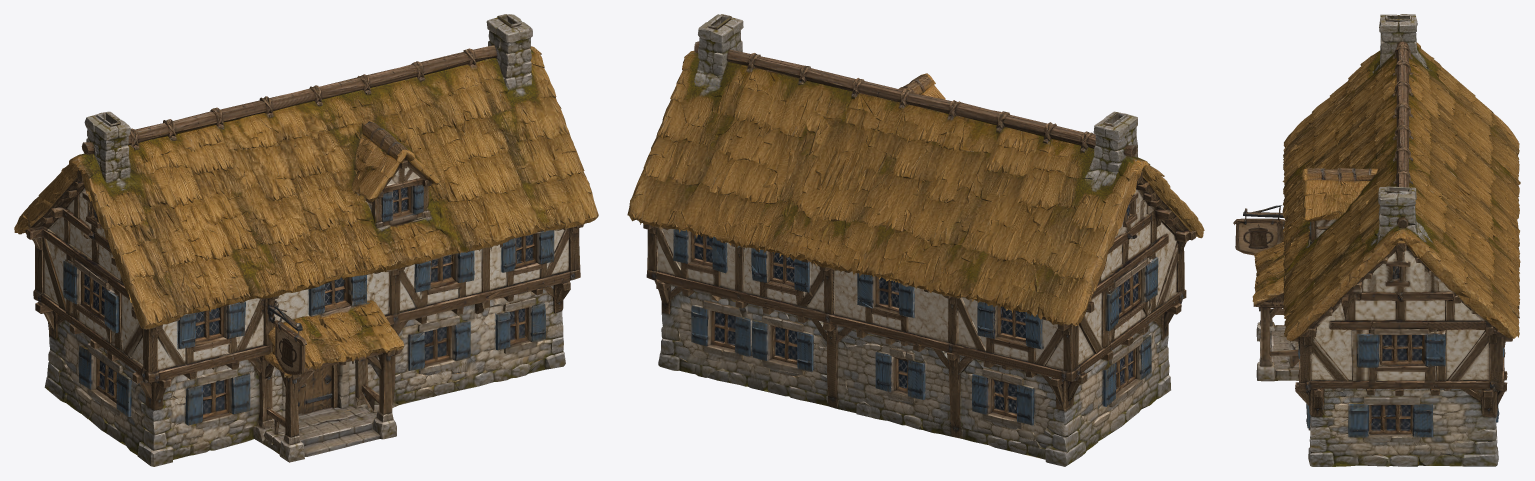
Rendered from inn.glb.
3 renders of one model, left to right at view 1: azimuth 30°, elevation 25°; view 2: azimuth 150°, elevation 25°; view 3: azimuth 270°, elevation 25°, orthographic. The views are drawn at different scales.
Size of the model in its own units: 1.9 by 1.22 by 1.15.
Materials: 1 (1 with a texture image).
